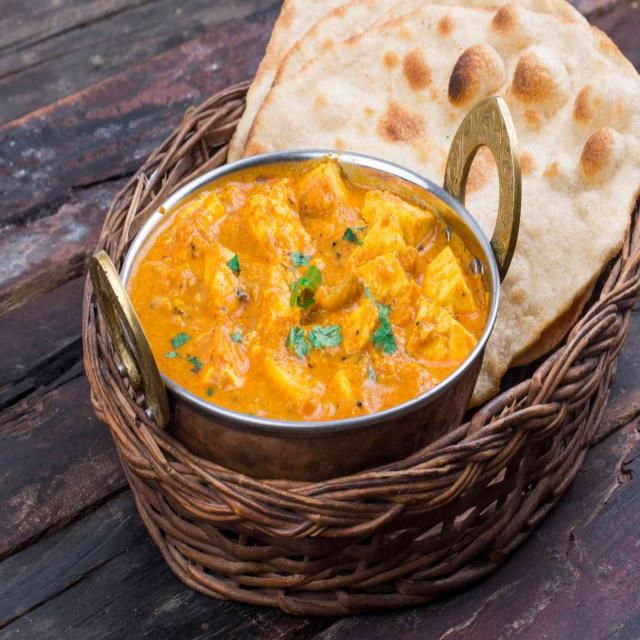ShahiPaneer: (130, 147, 488, 410)
